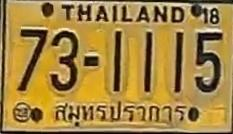1: (113, 30, 122, 91), (143, 30, 152, 91), (174, 31, 182, 92)
3: (49, 30, 78, 90)
5: (194, 30, 222, 91)
7: (17, 27, 46, 90)
SPK: (48, 98, 191, 133)
